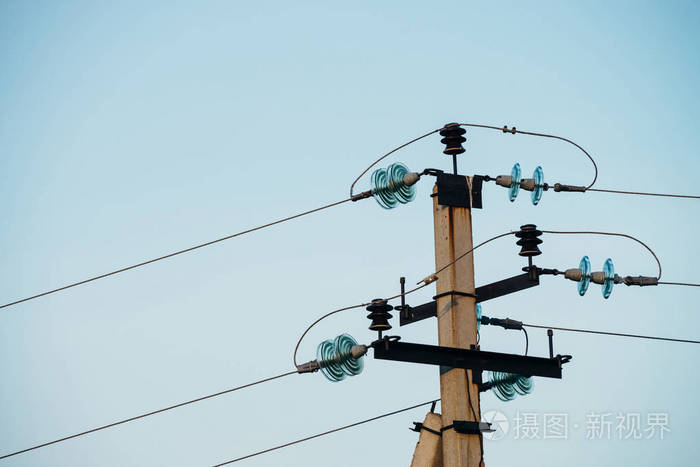insulator: (315, 332, 363, 384), (574, 251, 618, 302), (371, 161, 416, 210), (506, 163, 546, 205), (488, 372, 536, 404), (440, 123, 470, 157), (516, 224, 544, 259), (365, 301, 396, 332)
